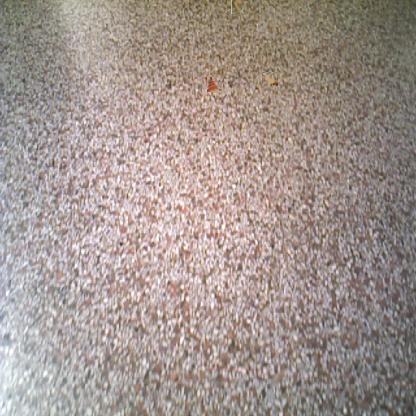dirty: (262, 72, 278, 86), (206, 76, 220, 90), (229, 0, 242, 12)
